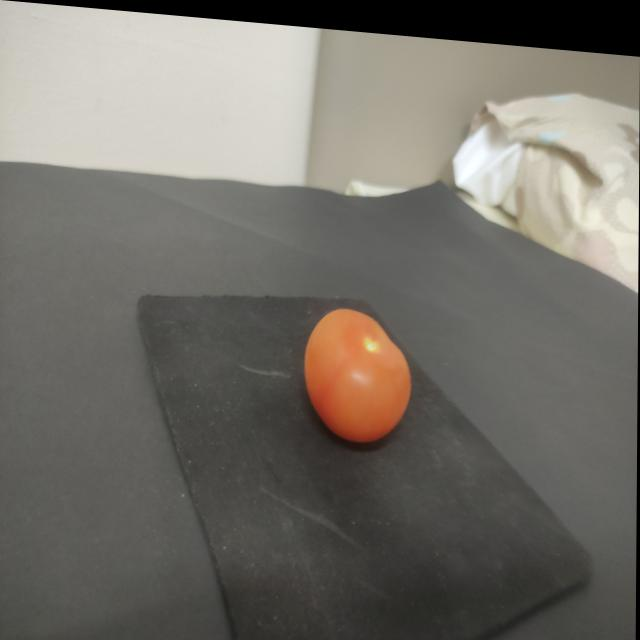sari: (295, 288, 414, 455)
